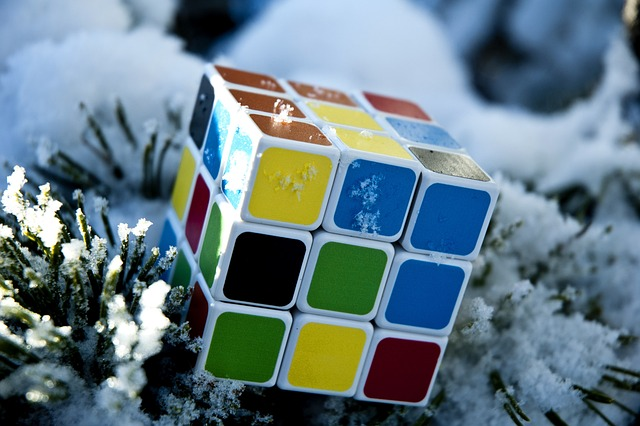cube: (147, 62, 501, 410)
